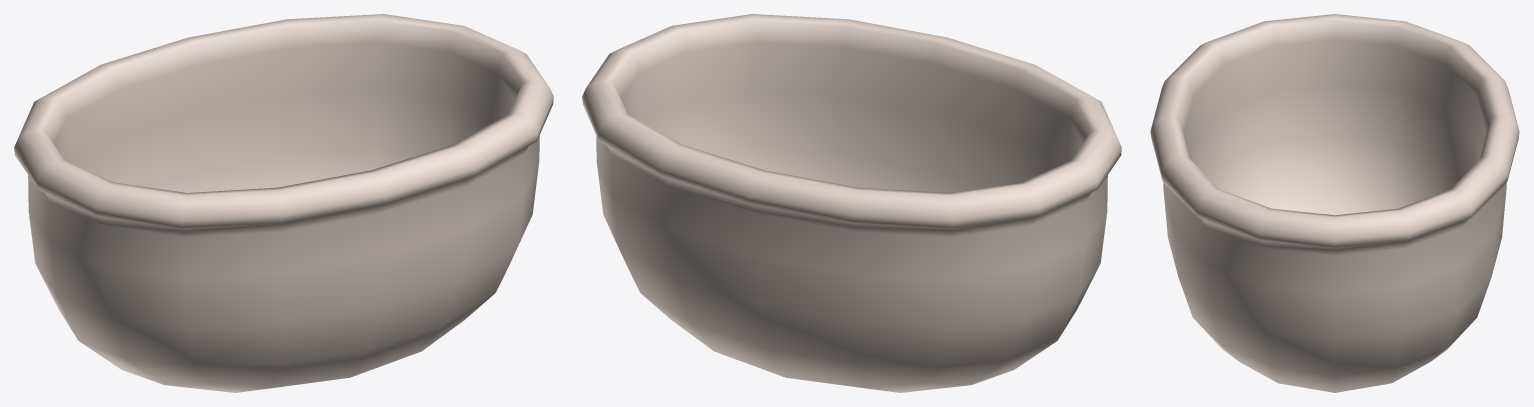
File: Basket_2.glb
3 renders of one model, left to right at view 1: azimuth 30°, elevation 25°; view 2: azimuth 150°, elevation 25°; view 3: azimuth 270°, elevation 25°, orthographic. The views are drawn at different scales.
Visible parts, largest first — view 1: Basket_2; view 2: Basket_2; view 3: Basket_2.
Part boxes in pixels (x1,y1,x2,y2): Basket_2: [14, 14, 553, 392]; Basket_2: [582, 14, 1121, 392]; Basket_2: [1150, 14, 1519, 392].
Size of the model in its own units: 0.3945 by 0.1903 by 0.2818.
1 material, 1 textured.
